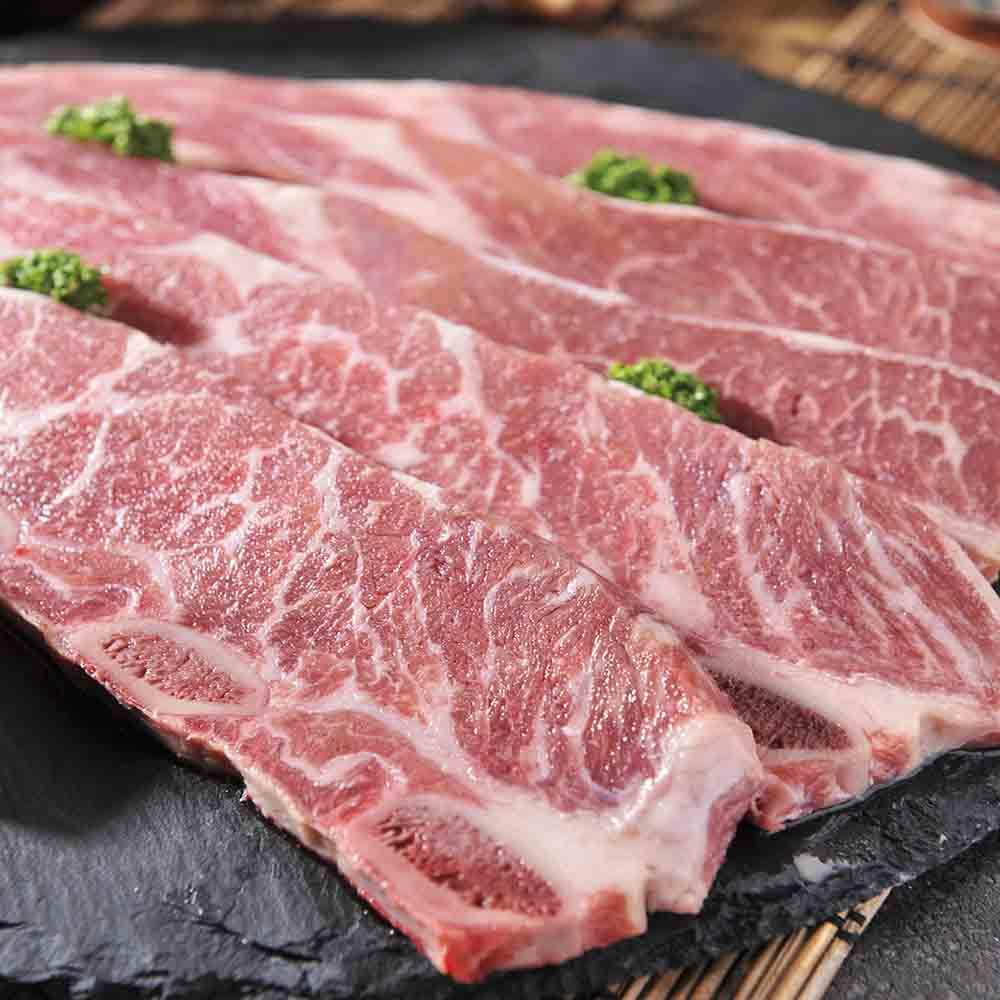beef: (303, 614, 1000, 1000)
